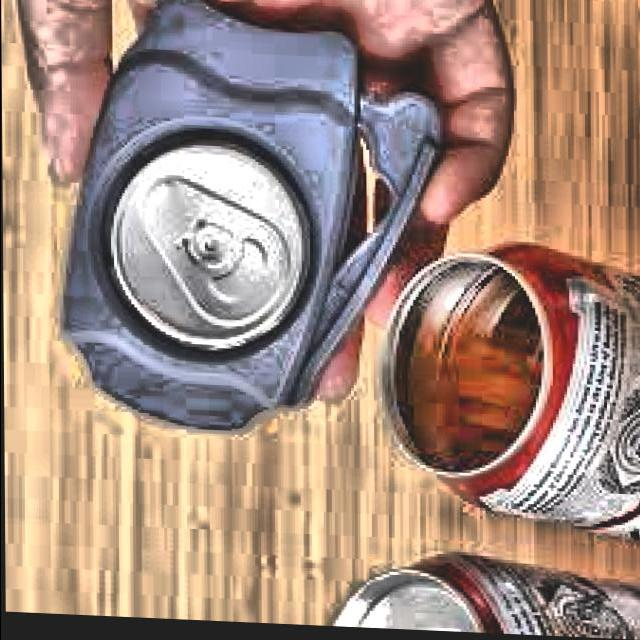Aluminum Can: (364, 224, 640, 548), (317, 539, 640, 640)
